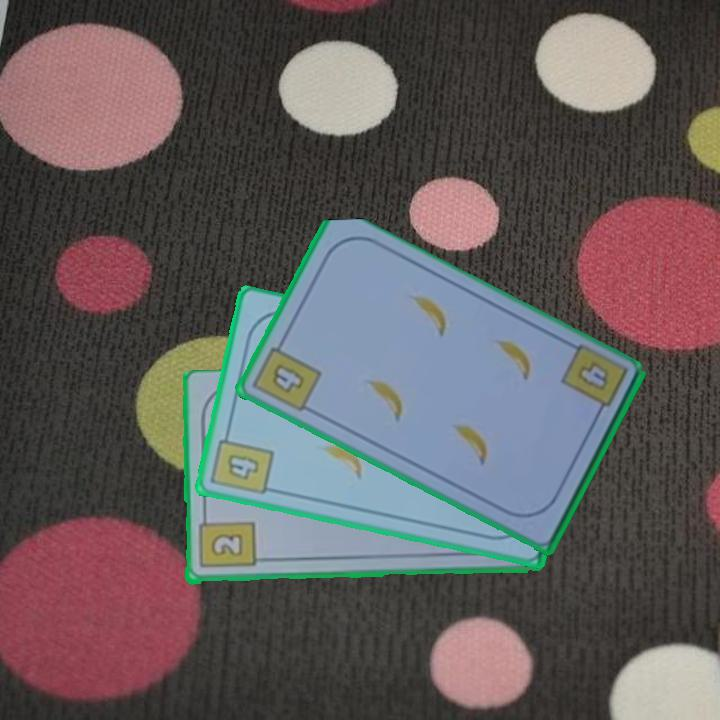2b: (195, 510, 257, 571)
4b: (249, 335, 324, 415), (207, 425, 277, 499), (573, 358, 612, 394)
